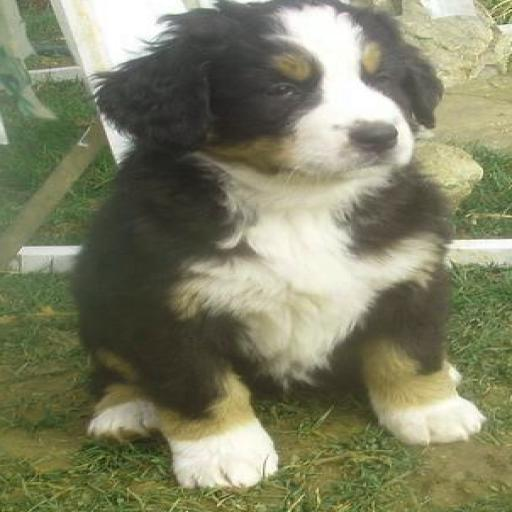dog_face: (92, 0, 442, 170)
